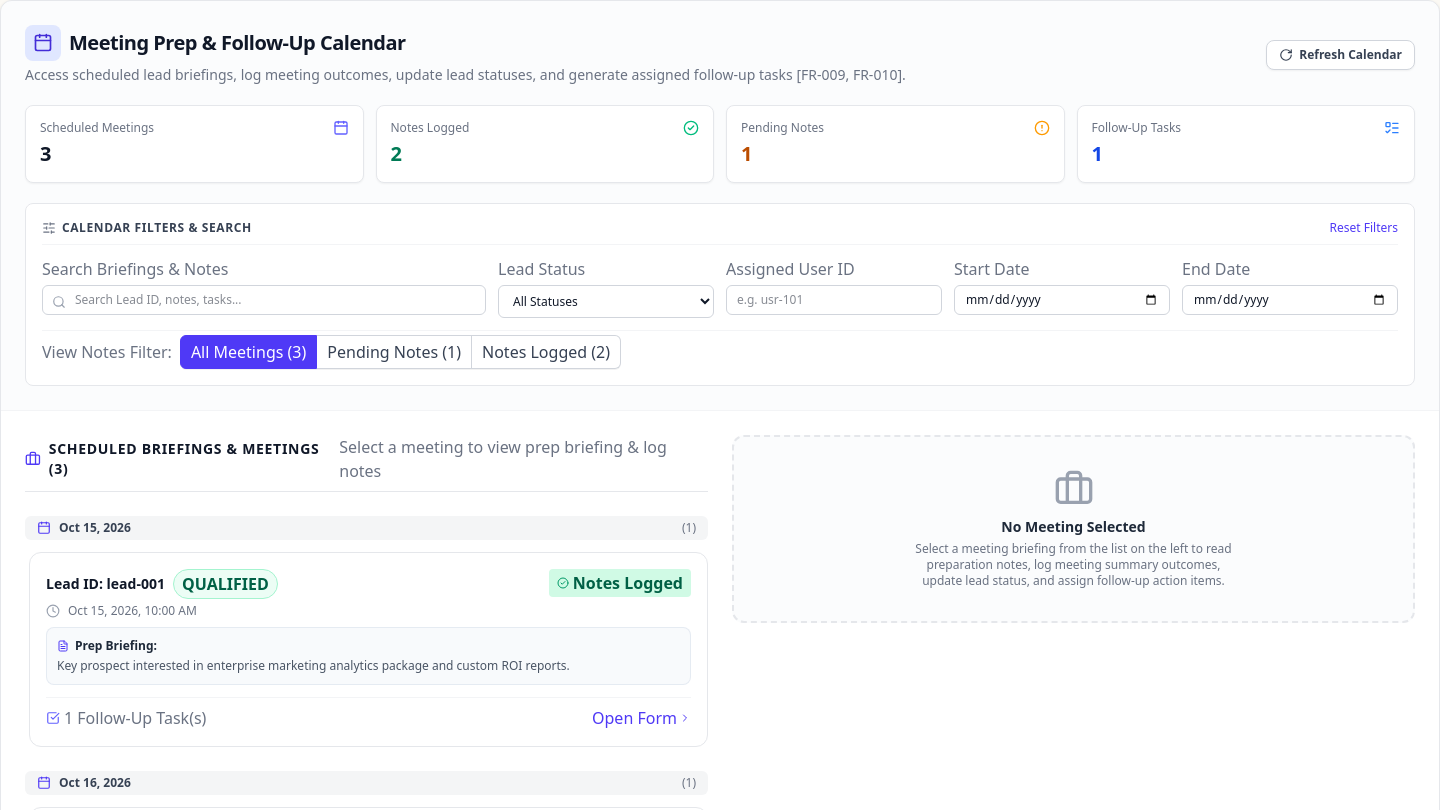
Scenario: MeetingCalendar Component & Helpers [FR-009, FR-010] › Filtering & View Modes › switches view mode between All, Pending Notes, and Notes Logged
Switch to Pending Notes
Step 1. Click the button with test id "view-pending-btn" → [395, 352], box [317, 335, 472, 369]
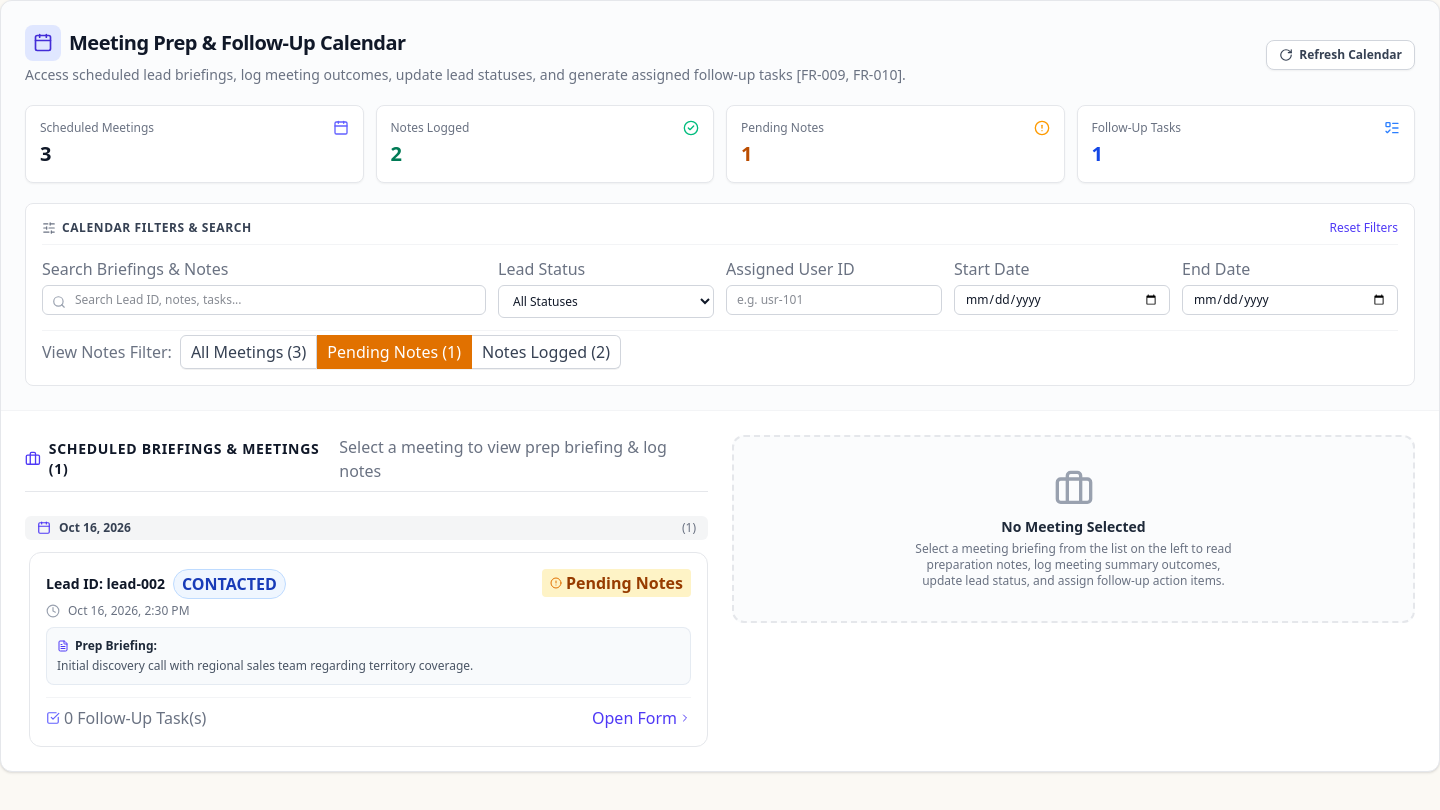
Expected: the text "Lead ID: lead-002" is shown, [46, 574, 165, 594]
Expected: the text "Lead ID: lead-001" is gone
Switch to Notes Logged
Step 2. Click the button with test id "view-completed-btn" → [546, 352], box [472, 335, 621, 369]
(page scrolled)
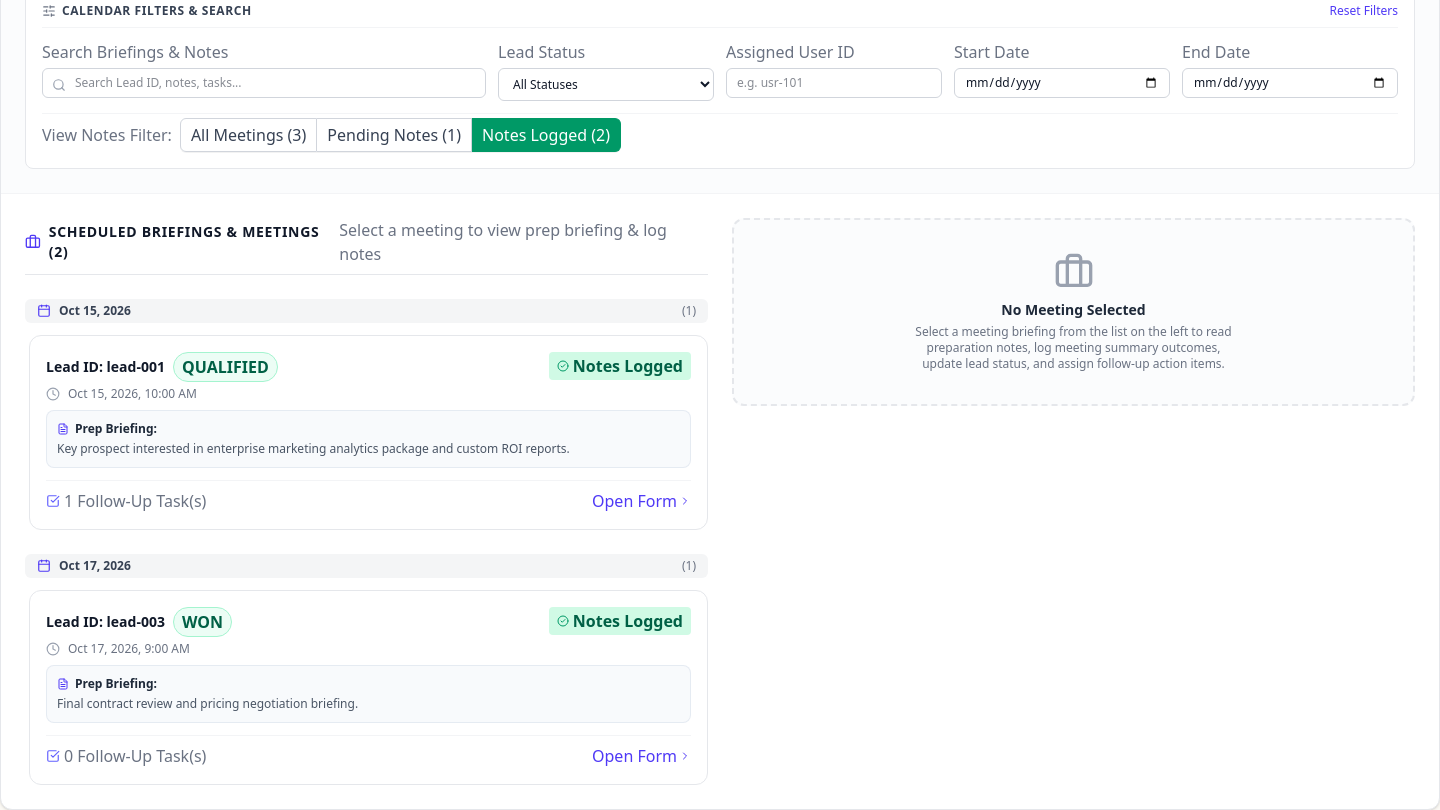
Expected: the text "Lead ID: lead-001" is shown, [46, 357, 165, 377]
Expected: the text "Lead ID: lead-003" is shown, [46, 612, 165, 632]
Expected: the text "Lead ID: lead-002" is gone
